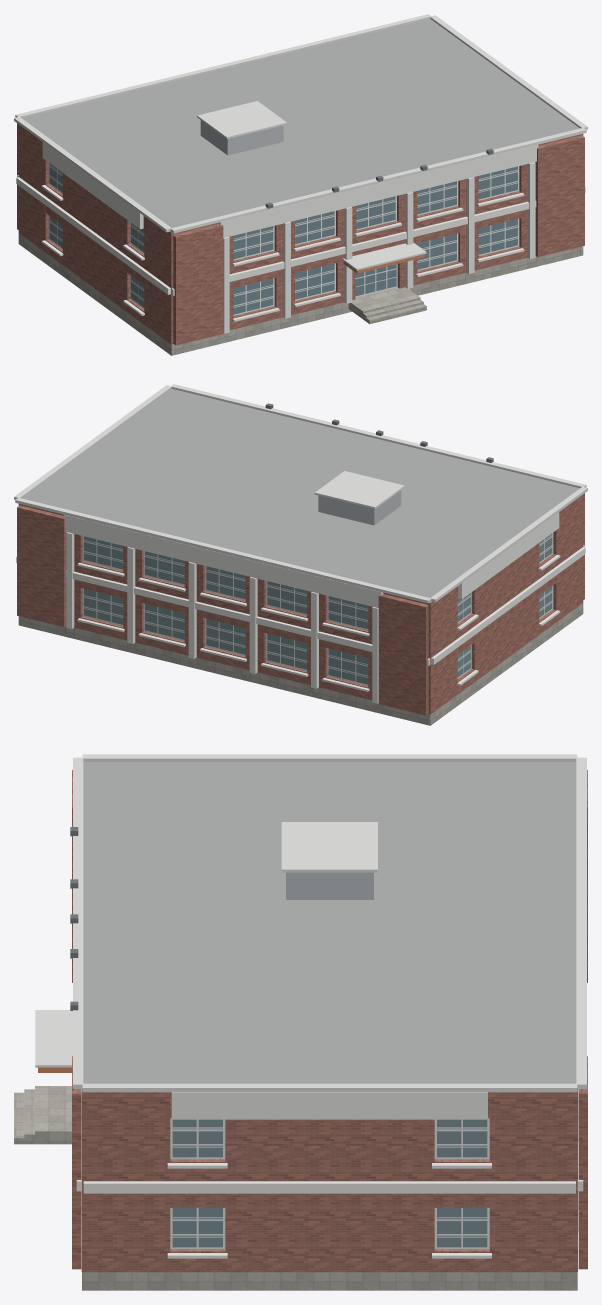
3 views of the same model, one above another, from view 1: azimuth 30°, elevation 25°; view 2: azimuth 150°, elevation 25°; view 3: azimuth 270°, elevation 25° (orthographic). The views are drawn at different scales.
Parts seen in each view (by area): view 1: food__roof, food__warmbrick, food__band, food__cap, food__glass, food__stone, food__frame, food__sill, food__metalroof, food__sideglass, food__stair-front, food__threshold-front; view 2: food__roof, food__warmbrick, food__band, food__sideglass, food__cap, food__stone, food__frame, food__sill, food__metalroof; view 3: food__roof, food__warmbrick, food__cap, food__band, food__stone, food__sideglass, food__frame, food__metalroof, food__stair-front, food__threshold-front, food__sill.
Boxes of the visible parts, x1,y1,x2,y2 form: food__roof: [22, 19, 579, 233]; food__warmbrick: [17, 123, 584, 345]; food__band: [16, 142, 585, 333]; food__cap: [14, 14, 587, 270]; food__glass: [233, 166, 517, 314]; food__stone: [18, 233, 583, 355]; food__frame: [48, 163, 519, 315]; food__sill: [41, 185, 524, 321]; food__metalroof: [200, 120, 283, 155]; food__sideglass: [49, 163, 144, 307]; food__stair-front: [360, 295, 426, 324]; food__threshold-front: [348, 287, 416, 316]; food__roof: [22, 389, 579, 603]; food__warmbrick: [17, 493, 584, 715]; food__band: [16, 512, 585, 703]; food__sideglass: [84, 533, 552, 684]; food__cap: [14, 384, 587, 603]; food__stone: [18, 603, 583, 725]; food__frame: [82, 533, 553, 685]; food__sill: [77, 555, 560, 691]; food__metalroof: [318, 490, 401, 525]; food__roof: [82, 762, 577, 1091]; food__warmbrick: [72, 770, 587, 1272]; food__cap: [35, 754, 586, 1092]; food__band: [76, 1089, 583, 1231]; food__stone: [82, 1272, 577, 1290]; food__sideglass: [172, 1119, 487, 1247]; food__frame: [170, 1118, 489, 1249]; food__metalroof: [286, 872, 373, 899]; food__stair-front: [14, 1086, 45, 1144]; food__threshold-front: [45, 1086, 71, 1144]; food__sill: [81, 1089, 578, 1258].
Size of the model in its own units: 28.66 by 9.42 by 20.84.
Materials: 13 (2 with a texture image).
